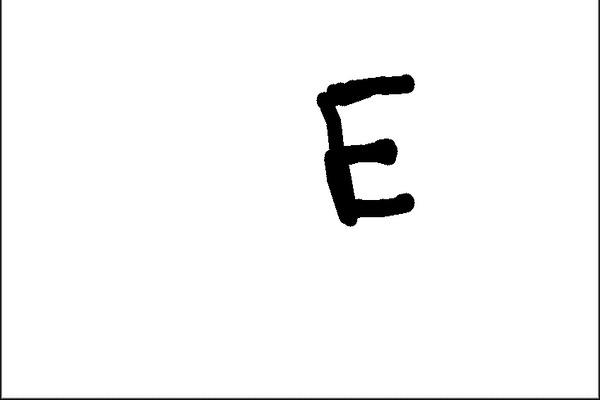E: (311, 71, 424, 227)
